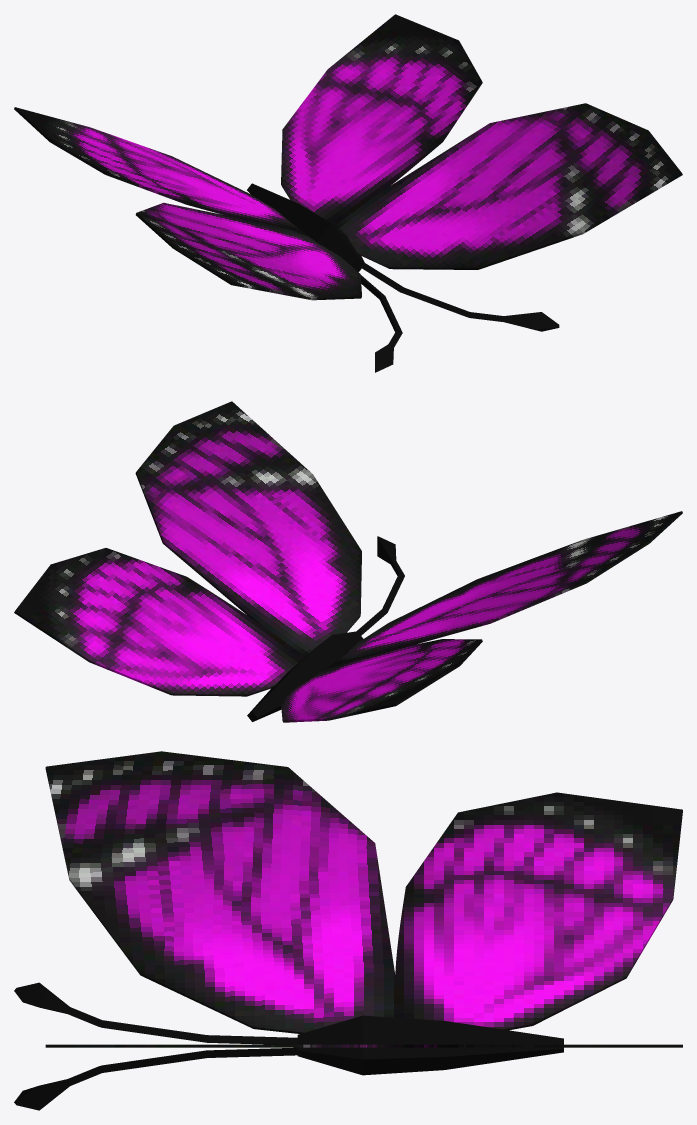
The model's file is Personage_Butterfly_violet.FBX.
The picture shows the model from 3 angles, top to bottom: view 1: azimuth 30°, elevation 25°; view 2: azimuth 150°, elevation 25°; view 3: azimuth 270°, elevation 25°; orthographic projection. The views are drawn at different scales.
Parts seen in each view (by area): view 1: Body; view 2: Body; view 3: Body.
Boxes of the visible parts, box(x1,y1,x2,y2) form: Body: box(14, 14, 682, 372); Body: box(14, 401, 682, 722); Body: box(14, 751, 682, 1110).
Size of the model in its own units: 37.94 by 10.67 by 36.45.
